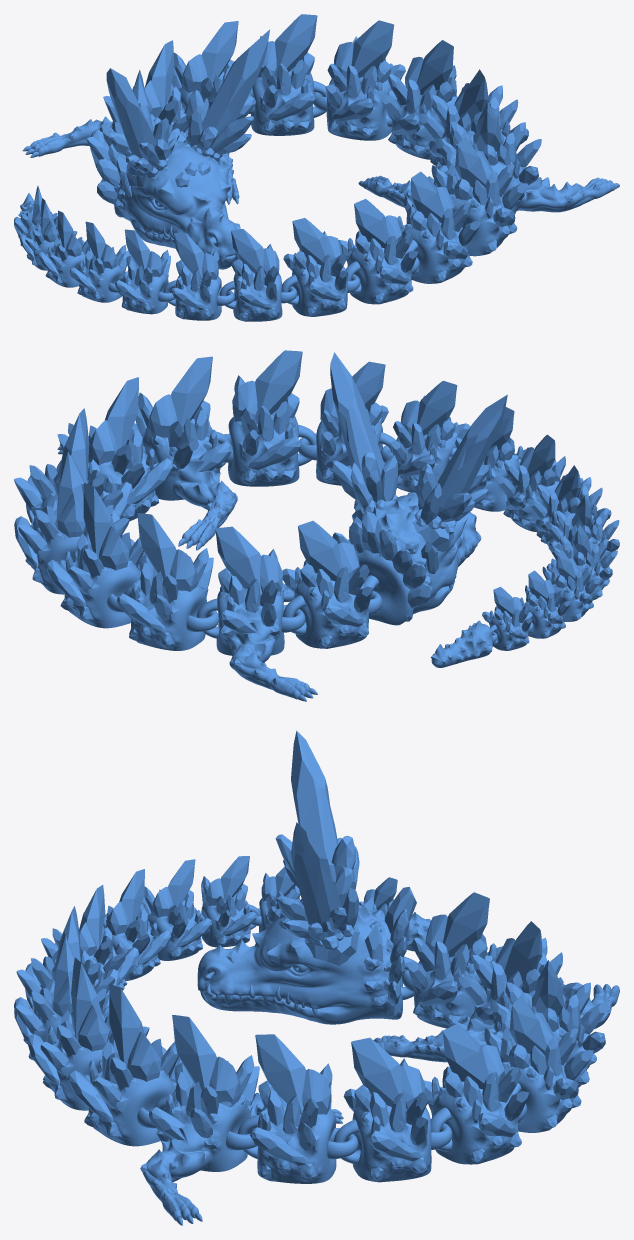
File: dragon.glb
3 renders of one model, top to bottom at view 1: azimuth 30°, elevation 25°; view 2: azimuth 150°, elevation 25°; view 3: azimuth 270°, elevation 25°, orthographic. The views are drawn at different scales.
Parts seen in each view (by area): view 1: Dragon.stl; view 2: Dragon.stl; view 3: Dragon.stl.
Part boxes in pixels (<box>): Dragon.stl: <box>14,14,619,321</box>; Dragon.stl: <box>14,350,619,701</box>; Dragon.stl: <box>14,730,619,1225</box>.
Size of the model in its own units: 0.1501 by 0.0524 by 0.1251.
